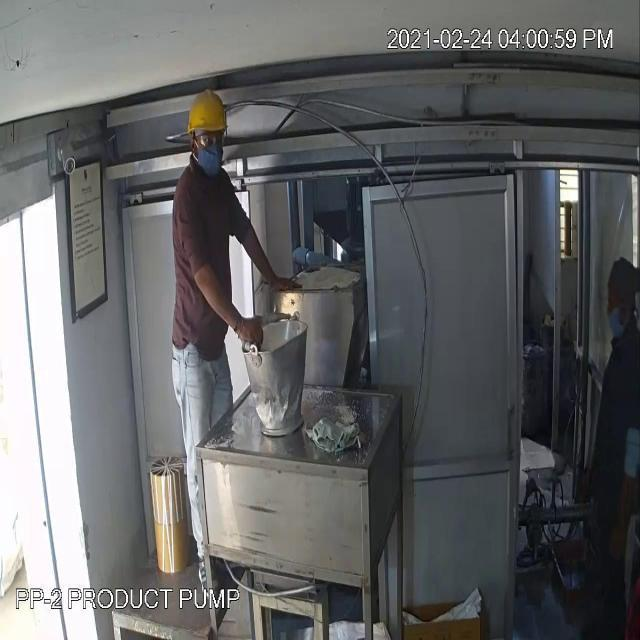hat: (183, 88, 229, 140)
